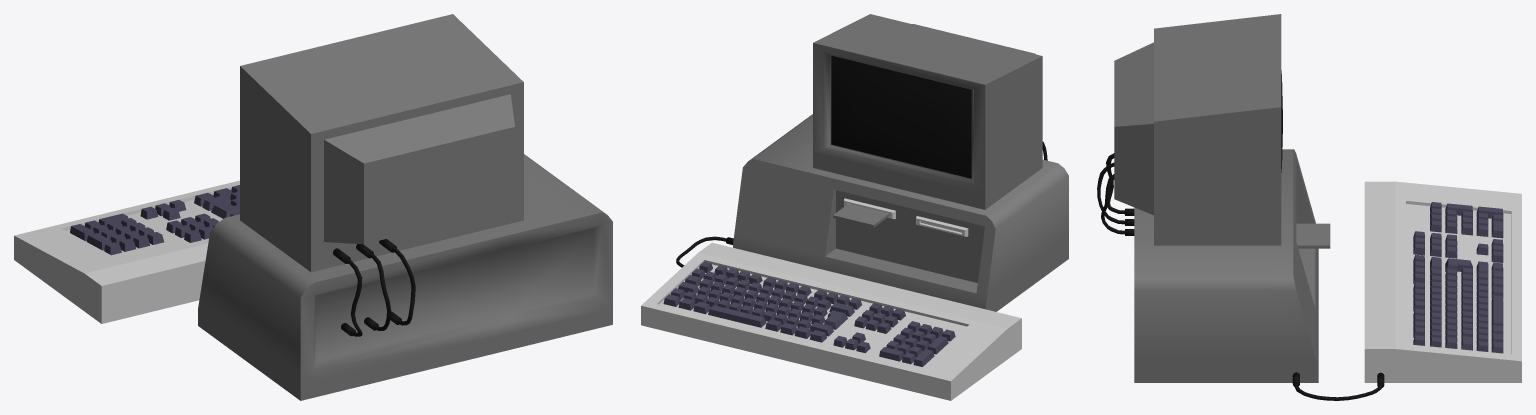
Rendered from scifi_computer.fbx.
3 renders of one model, left to right at view 1: azimuth 30°, elevation 25°; view 2: azimuth 150°, elevation 25°; view 3: azimuth 270°, elevation 25°, orthographic. The views are drawn at different scales.
Visible parts, largest first — view 1: scifi_computer; view 2: scifi_computer; view 3: scifi_computer.
Boxes of the visible parts, left/top/right/bottom form: scifi_computer: left=14, top=14, right=612, bottom=400; scifi_computer: left=641, top=14, right=1068, bottom=400; scifi_computer: left=1097, top=14, right=1521, bottom=400.
Bounding box in the file's own units: 4.84 × 2.9 × 4.61.
